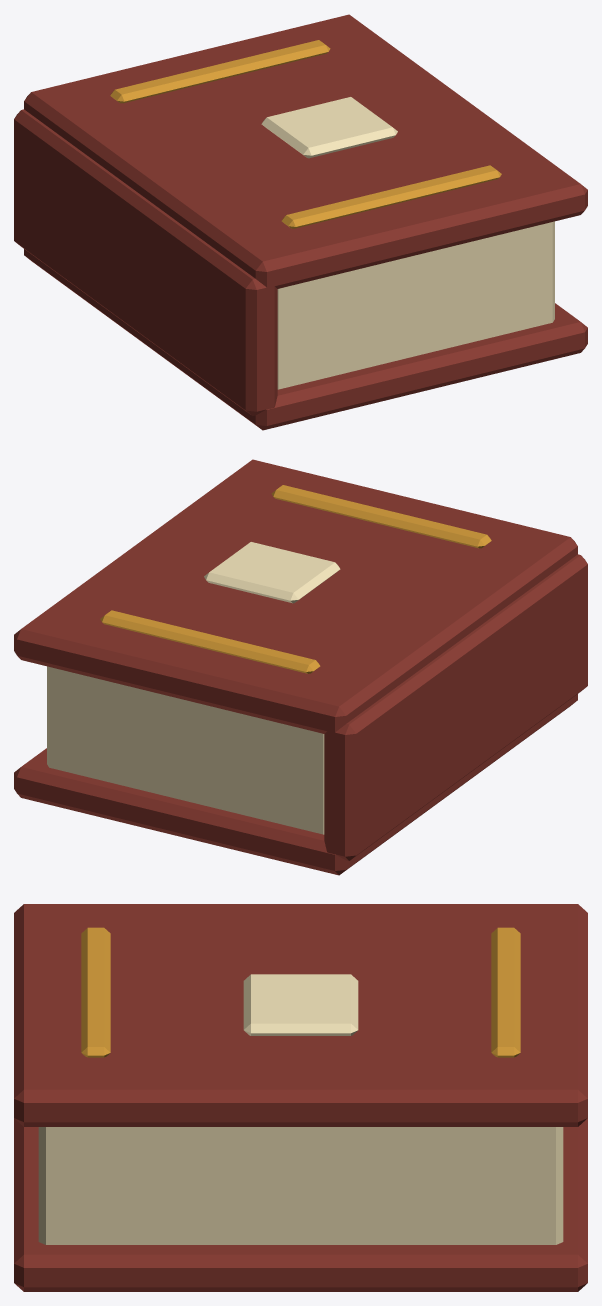
The model's file is red_book.glb.
The picture shows the model from 3 angles, top to bottom: view 1: azimuth 30°, elevation 25°; view 2: azimuth 150°, elevation 25°; view 3: azimuth 270°, elevation 25°; orthographic projection. The views are drawn at different scales.
Parts seen in each view (by area): view 1: red_book__body__red_dark, red_book__body__linen, red_book__body__brass; view 2: red_book__body__red_dark, red_book__body__linen, red_book__body__brass; view 3: red_book__body__red_dark, red_book__body__linen, red_book__body__brass.
Part boxes in pixels (bbox=[...]): red_book__body__red_dark: bbox=[14, 14, 587, 430]; red_book__body__linen: bbox=[261, 97, 554, 389]; red_book__body__brass: bbox=[110, 40, 501, 228]; red_book__body__red_dark: bbox=[14, 459, 587, 875]; red_book__body__linen: bbox=[47, 542, 340, 834]; red_book__body__brass: bbox=[100, 485, 491, 673]; red_book__body__red_dark: bbox=[14, 904, 587, 1291]; red_book__body__linen: bbox=[38, 974, 563, 1244]; red_book__body__brass: bbox=[81, 927, 520, 1057].
Bounding box in the file's own units: 0.2885 × 0.144 × 0.35.
